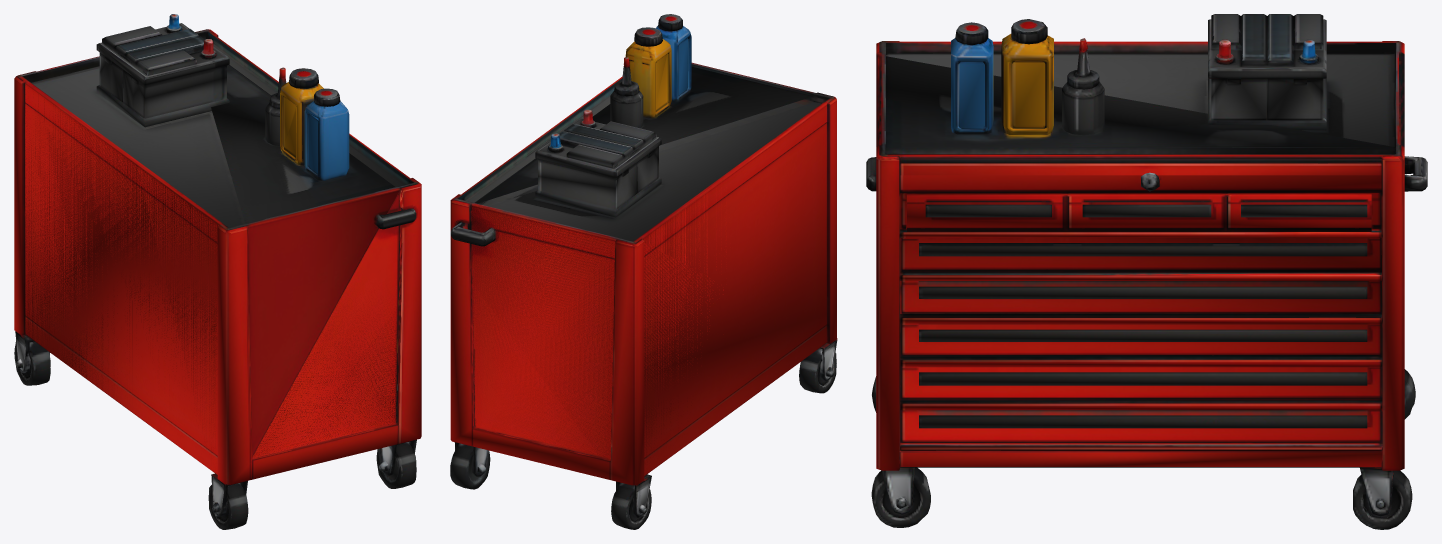
File: toolchest.glb
The picture shows the model from 3 angles, left to right: view 1: azimuth 30°, elevation 25°; view 2: azimuth 150°, elevation 25°; view 3: azimuth 270°, elevation 25°; orthographic projection. The views are drawn at different scales.
Visible parts, largest first — view 1: tripo_node_47ce98e1-8b2b-4803-ba54-c895f9015f3c; view 2: tripo_node_47ce98e1-8b2b-4803-ba54-c895f9015f3c; view 3: tripo_node_47ce98e1-8b2b-4803-ba54-c895f9015f3c.
Part boxes in pixels (x1=…): tripo_node_47ce98e1-8b2b-4803-ba54-c895f9015f3c: x1=14, y1=14, x2=421, y2=529; tripo_node_47ce98e1-8b2b-4803-ba54-c895f9015f3c: x1=450, y1=14, x2=837, y2=529; tripo_node_47ce98e1-8b2b-4803-ba54-c895f9015f3c: x1=866, y1=14, x2=1427, y2=529.
Bounding box in the file's own units: 0.6223 × 1.12 × 1.2.
Materials: 1 (1 with a texture image).
